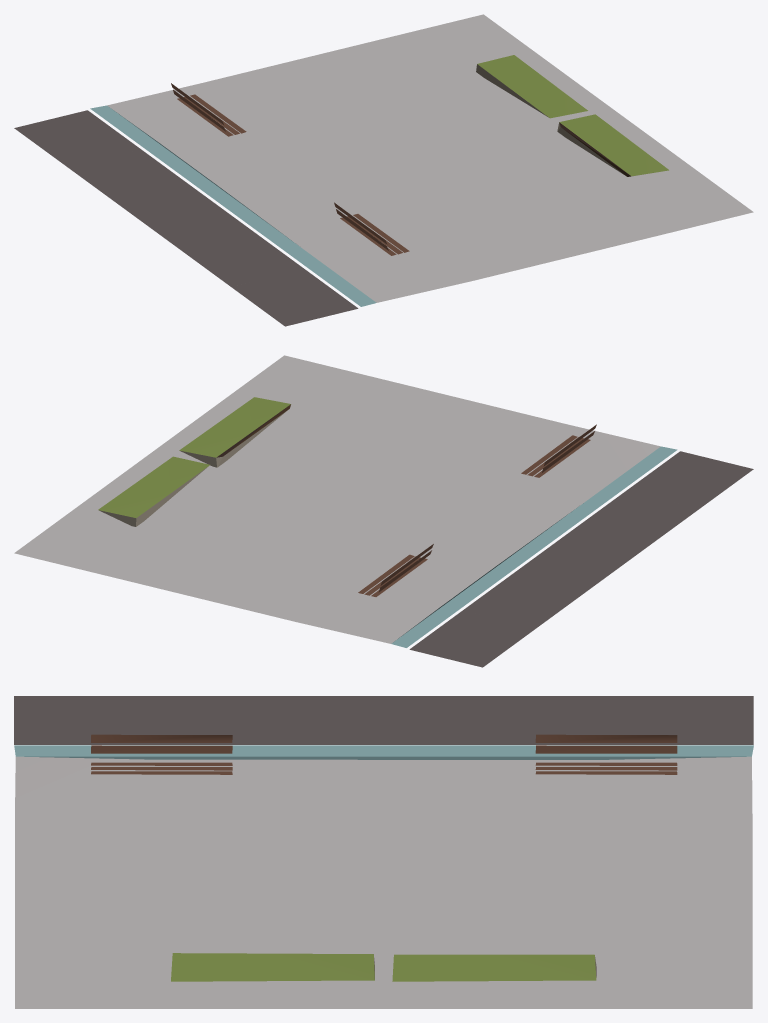
Rendered from QmNUqWDC8KAKrTJHJkD9KUvmCS4KnPwhC567o81dsd8gYo_lod2.fbx.
The picture shows the model from 3 angles, top to bottom: view 1: azimuth 30°, elevation 25°; view 2: azimuth 150°, elevation 25°; view 3: azimuth 270°, elevation 25°; orthographic projection. The views are drawn at different scales.
Parts seen in each view (by area): view 1: Entity_512; view 2: Entity_512; view 3: Entity_512.
Part boxes in pixels (x1,y1,x2,y2): Entity_512: [14, 14, 753, 326]; Entity_512: [14, 355, 753, 667]; Entity_512: [14, 696, 753, 1008].
Size of the model in its own units: 15907 by 1157 by 15930.
1 material, 1 textured.
